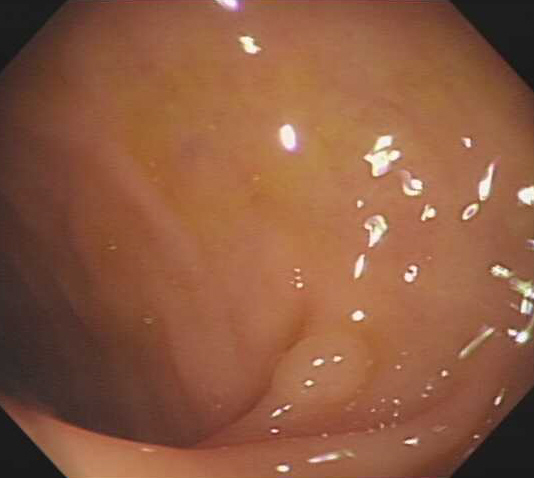others: (266, 330, 373, 406)
